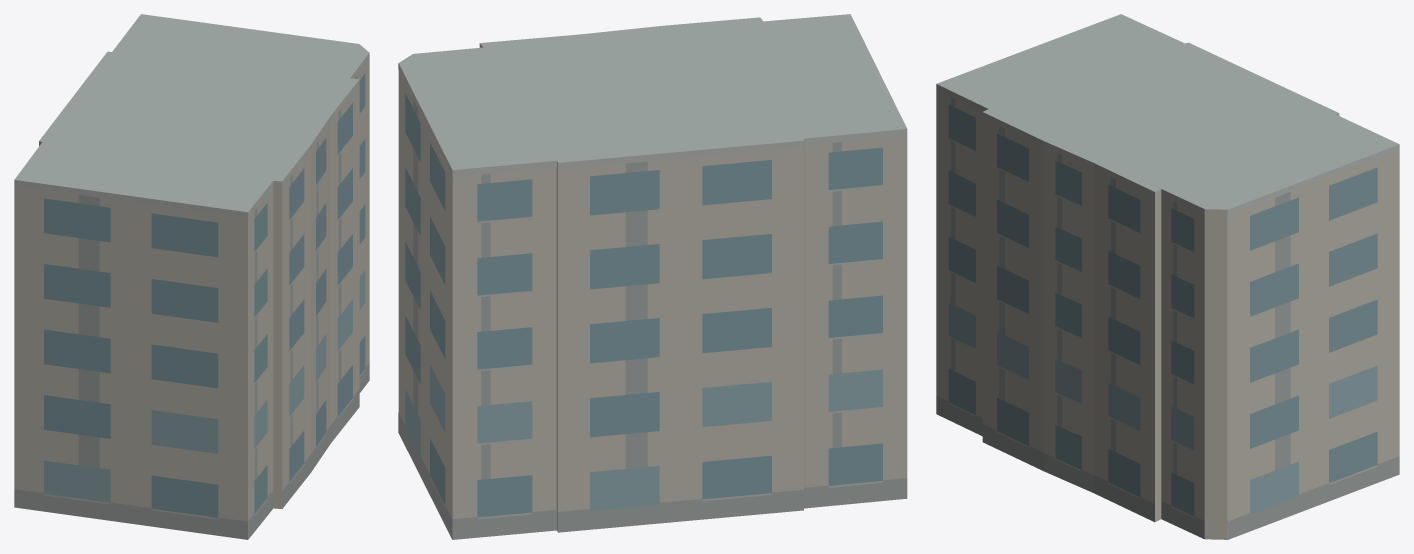
Rendered from survey-upis-32633589.glb.
3 renders of one model, left to right at view 1: azimuth 30°, elevation 25°; view 2: azimuth 150°, elevation 25°; view 3: azimuth 270°, elevation 25°, orthographic. The views are drawn at different scales.
Parts seen in each view (by area): view 1: survey-upis-32633589.tmp; view 2: survey-upis-32633589.tmp; view 3: survey-upis-32633589.tmp.
Part boxes in pixels (x1,y1,x2,y2): survey-upis-32633589.tmp: [14, 14, 369, 539]; survey-upis-32633589.tmp: [398, 14, 907, 539]; survey-upis-32633589.tmp: [936, 14, 1399, 539].
Bounding box in the file's own units: 16.79 × 13.2 × 16.8.
